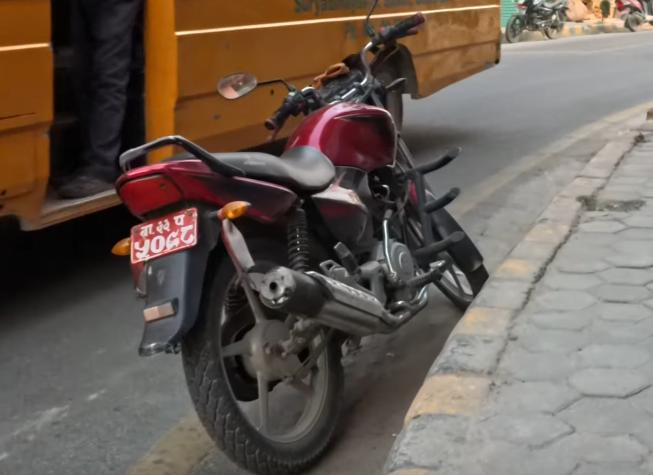bike: (106, 9, 498, 474)
